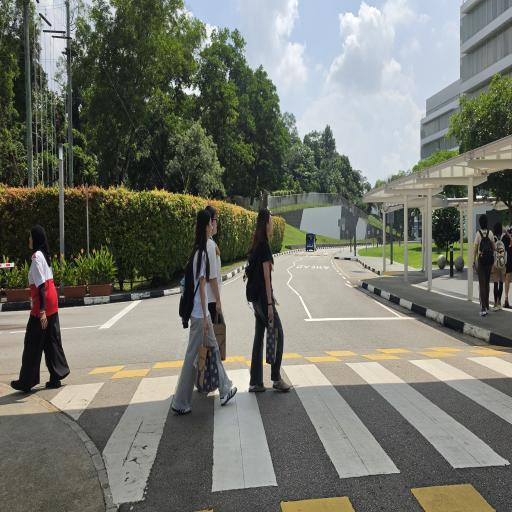person_left: (15, 206, 76, 395)
person_right: (242, 202, 292, 394), (180, 206, 211, 408), (203, 196, 228, 360)
